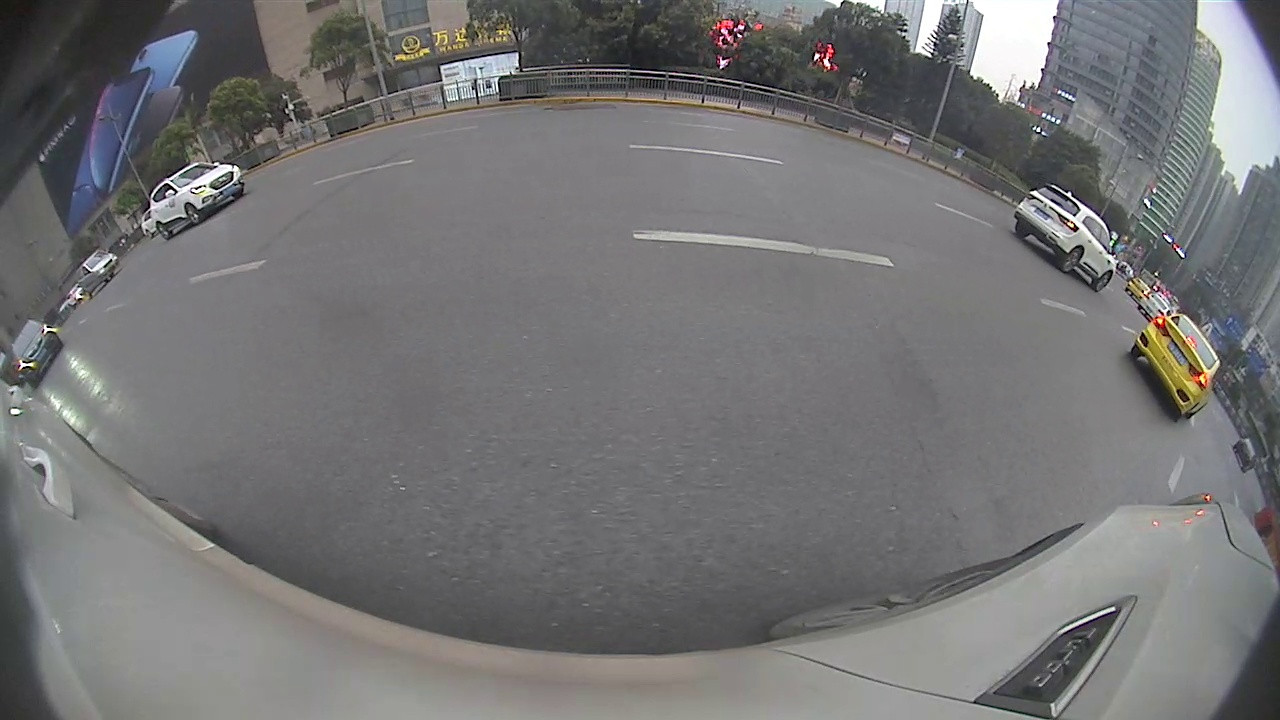car: (1015, 182, 1119, 293), (1129, 312, 1223, 422), (148, 160, 247, 242), (9, 316, 66, 390)
front: (1094, 271, 1116, 293), (181, 202, 201, 225)
rear: (1059, 245, 1086, 275), (155, 224, 170, 241)
